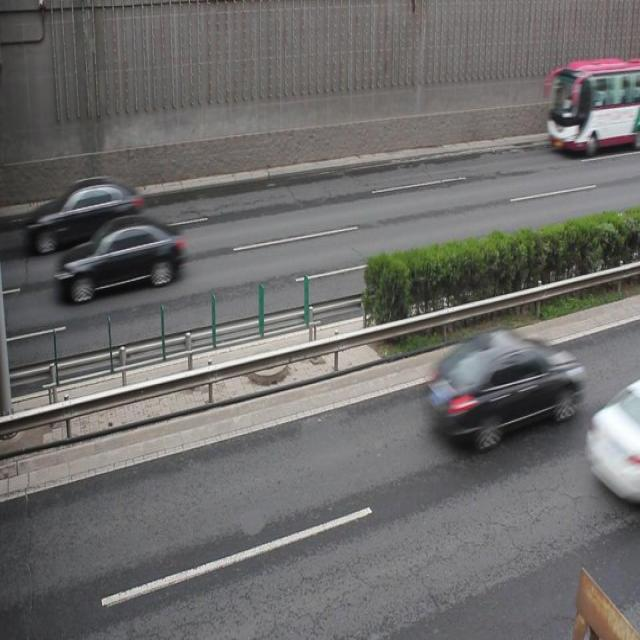car: (426, 324, 581, 438), (59, 219, 182, 299), (29, 176, 144, 253), (584, 392, 640, 504)
van: (546, 56, 640, 156)
